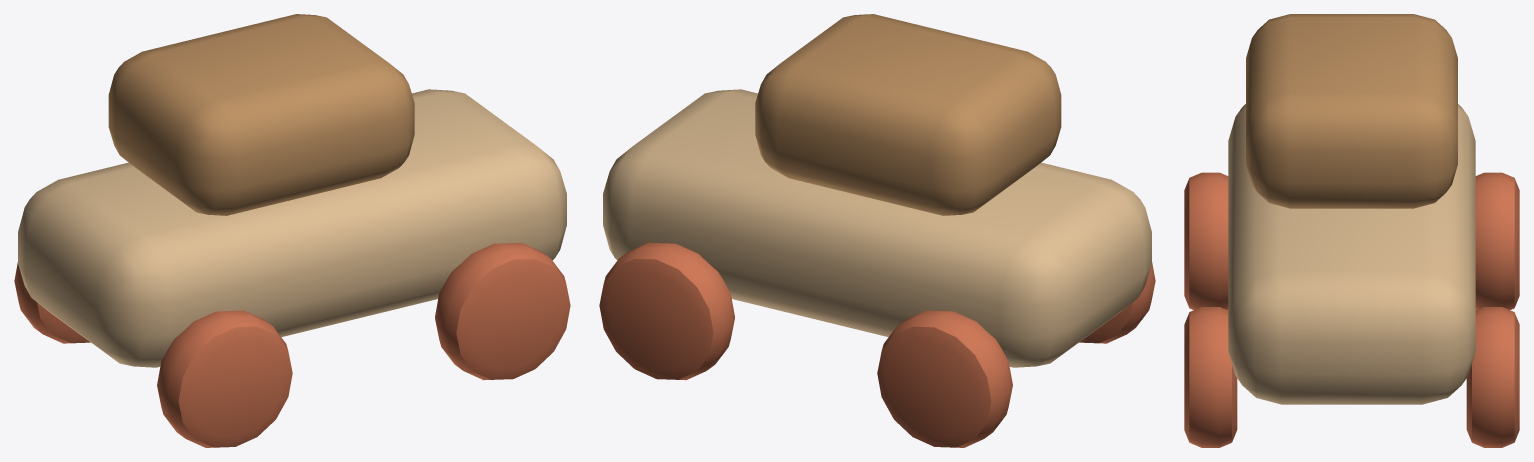
Rendered from wooden_toy.glb.
3 renders of one model, left to right at view 1: azimuth 30°, elevation 25°; view 2: azimuth 150°, elevation 25°; view 3: azimuth 270°, elevation 25°, orthographic.
Visible parts, largest first — view 1: wood, crate, food_c; view 2: wood, crate, food_c; view 3: wood, crate, food_c.
Part boxes in pixels (x1,y1,x2,y2): wood: [18, 89, 566, 367]; crate: [108, 14, 414, 215]; food_c: [14, 242, 570, 447]; wood: [603, 89, 1151, 367]; crate: [755, 14, 1061, 215]; food_c: [599, 242, 1155, 447]; wood: [1228, 104, 1475, 404]; crate: [1246, 14, 1457, 208]; food_c: [1184, 172, 1519, 447].
Bounding box in the file's own units: 0.3 × 0.19 × 0.19.
